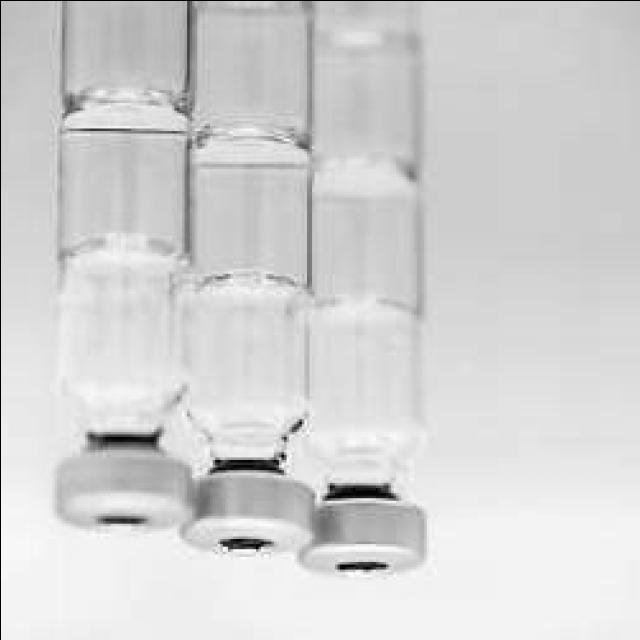vial: (66, 465, 160, 538), (196, 502, 302, 562), (332, 524, 416, 588)
